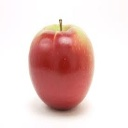apple: (28, 19, 95, 113)
